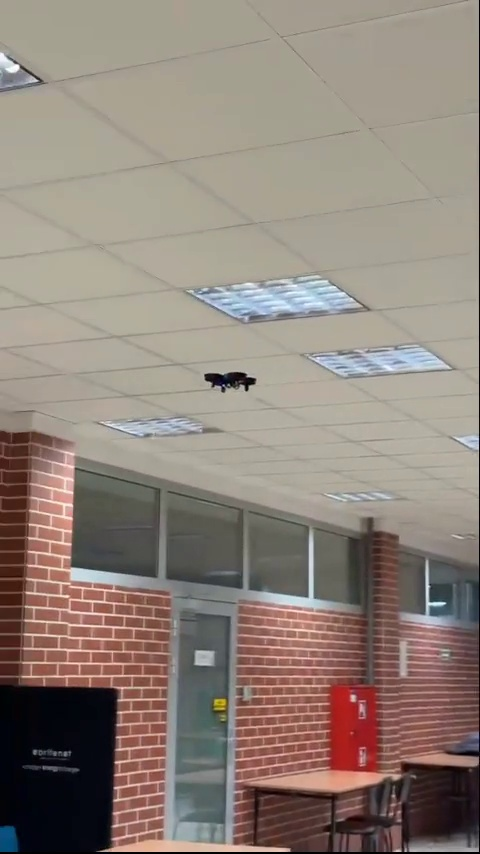drone: (204, 371, 258, 397)
